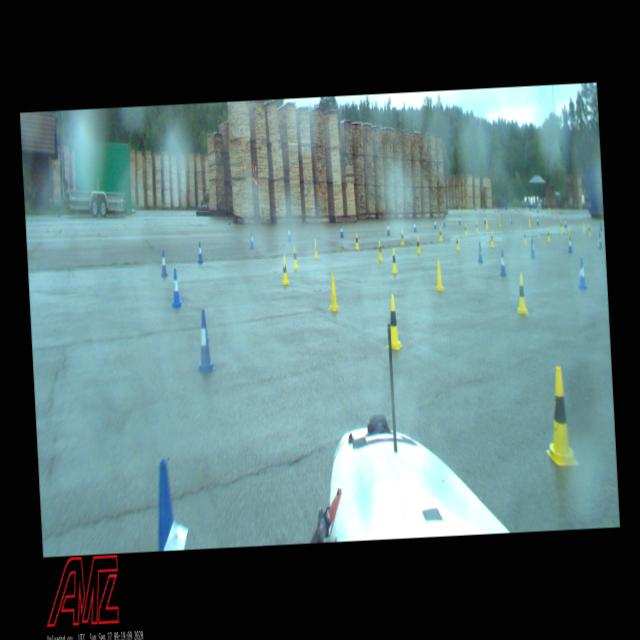blue_cone: (154, 459, 190, 551), (196, 309, 216, 372), (170, 268, 182, 308), (576, 257, 588, 290), (498, 250, 508, 276), (160, 250, 168, 278), (477, 241, 483, 264), (198, 242, 204, 264), (530, 238, 536, 258), (597, 232, 603, 248), (249, 232, 254, 250), (386, 222, 391, 236), (288, 226, 292, 242), (568, 236, 572, 252), (412, 220, 417, 232), (340, 224, 344, 238), (458, 214, 462, 225), (600, 220, 604, 231), (443, 216, 446, 228), (434, 218, 436, 230), (564, 218, 566, 228), (536, 217, 538, 226), (484, 215, 486, 224)
yellow_cone: (542, 366, 578, 466), (384, 294, 402, 349), (326, 272, 341, 312), (515, 273, 529, 315), (434, 259, 444, 291), (280, 256, 290, 284), (390, 248, 398, 273), (292, 245, 298, 269), (377, 240, 383, 262), (454, 233, 460, 251), (354, 232, 360, 250), (400, 229, 405, 245), (314, 239, 318, 258), (416, 236, 420, 253), (438, 226, 442, 242), (490, 231, 494, 247), (463, 224, 468, 236), (546, 228, 550, 242), (523, 230, 527, 244), (568, 226, 572, 239), (475, 220, 479, 232), (587, 224, 591, 236), (582, 222, 586, 234), (498, 217, 502, 227), (560, 220, 563, 231), (528, 218, 531, 228), (486, 219, 488, 229)
